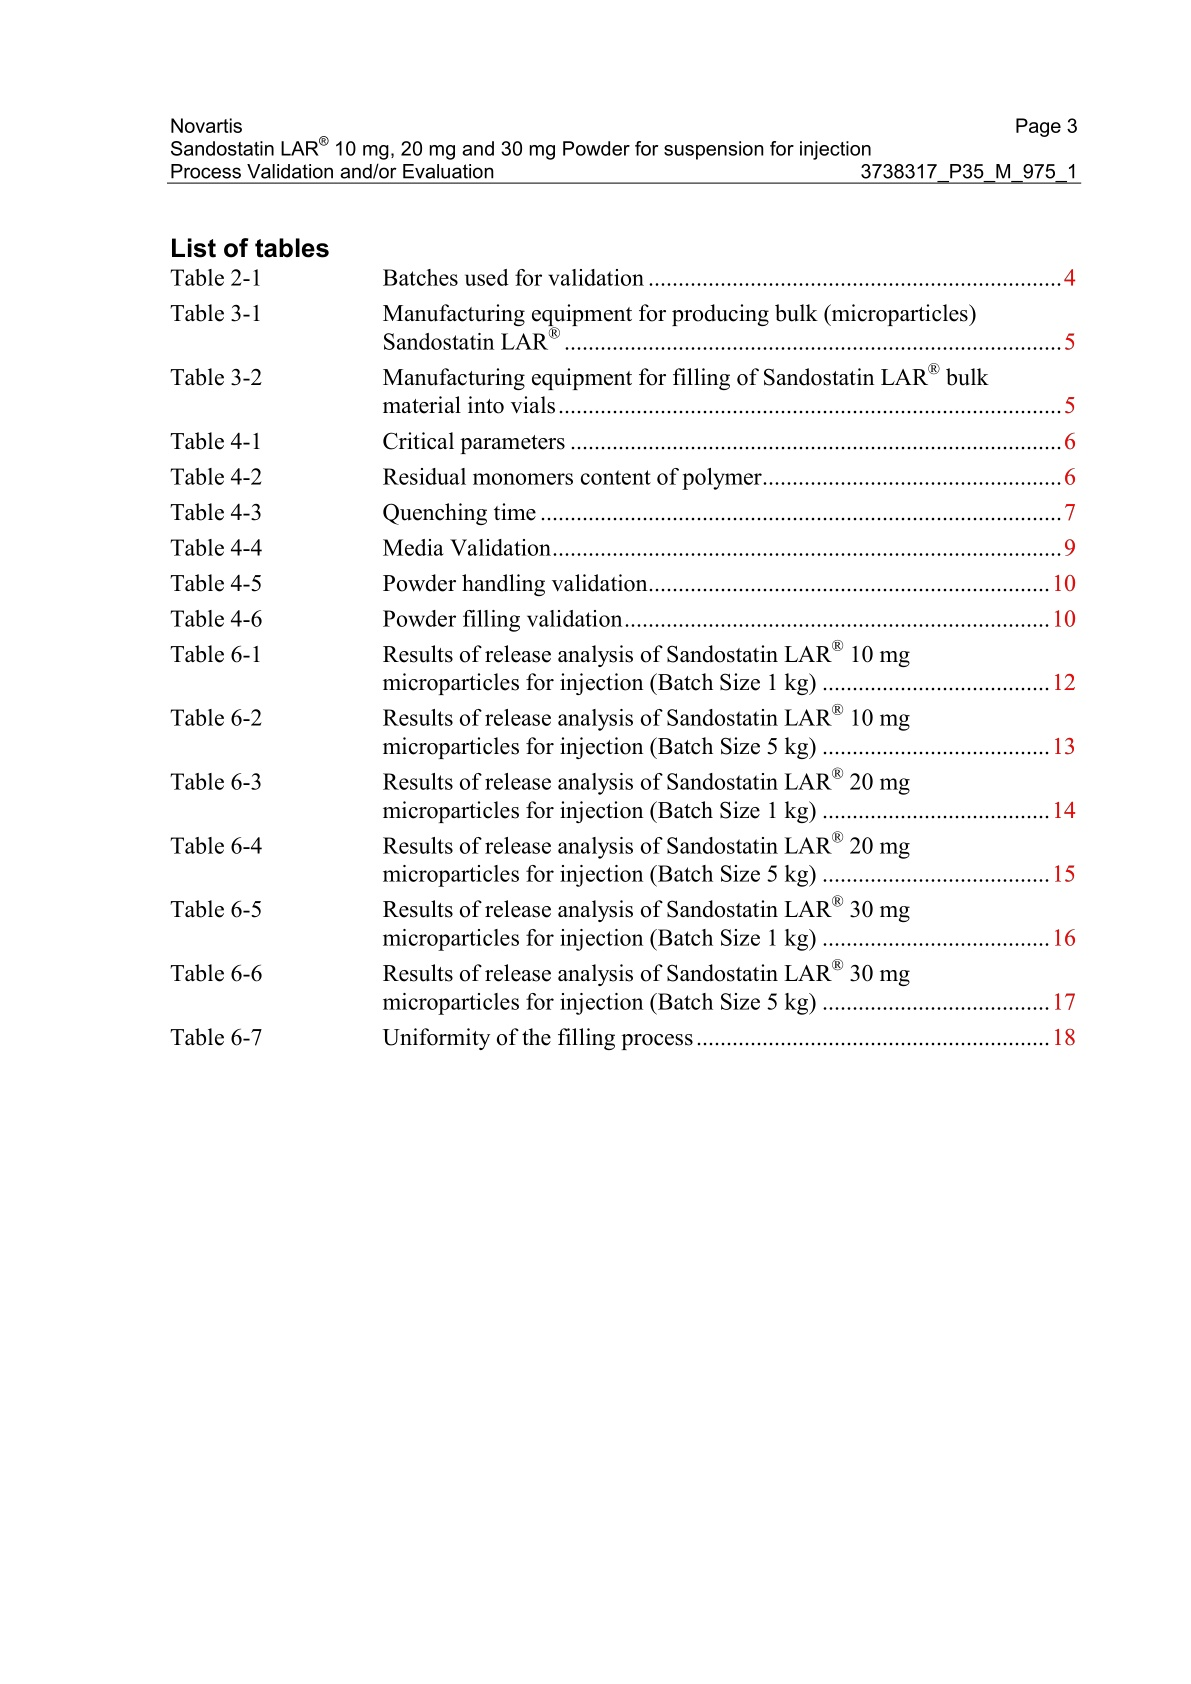nolines: (165, 233, 1079, 1058)
